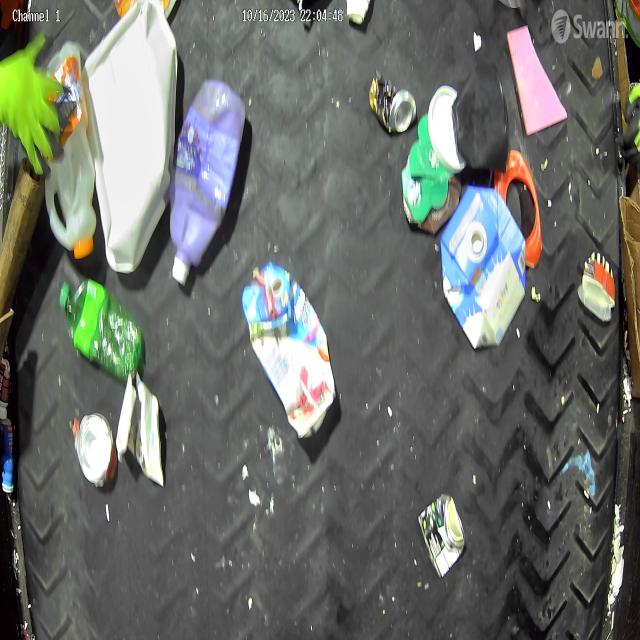can: (413, 485, 472, 578), (68, 398, 120, 496), (369, 67, 415, 144)
milk_jug: (88, 0, 180, 276), (42, 37, 96, 256)
plastic_bottle: (52, 279, 139, 384)
